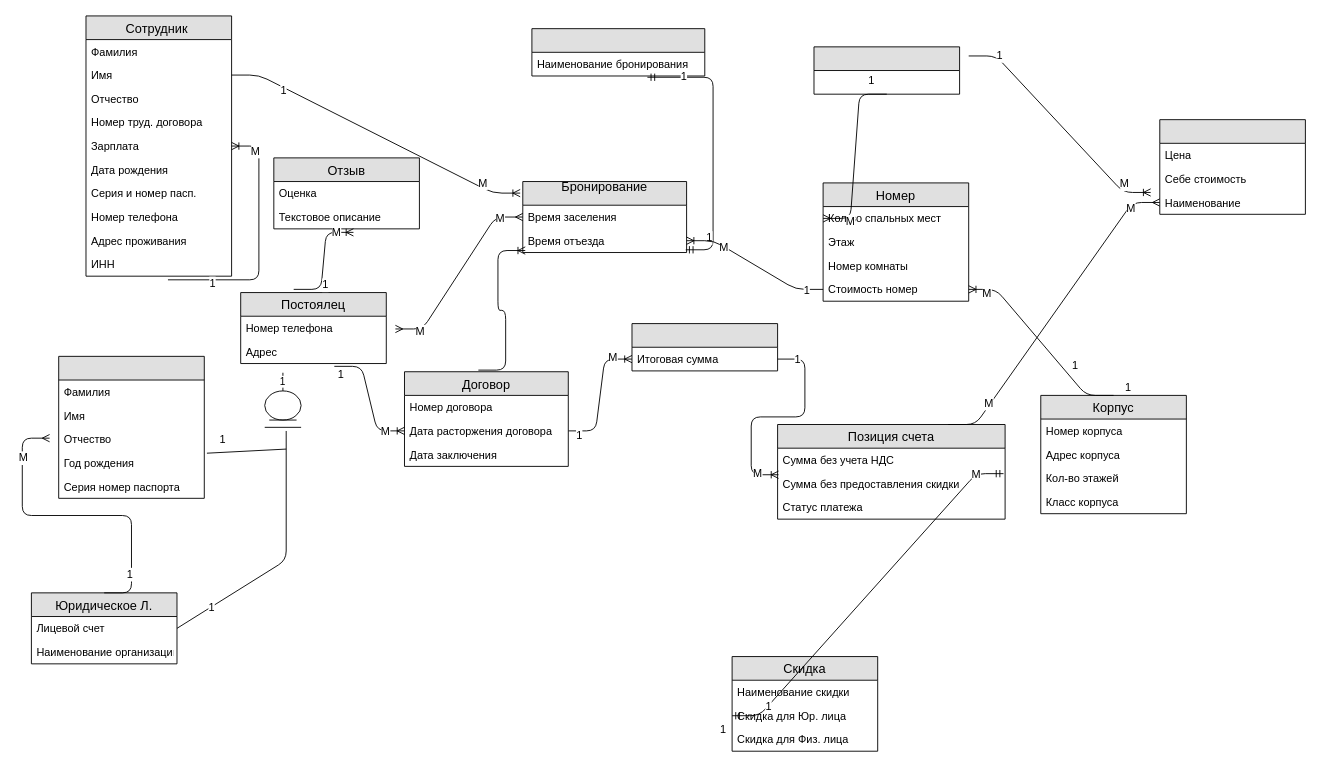
Some shapes in this 1321 by 770 pixel diagram are drawn without their labels. The box of each missing label's shape, as (x1, y1, x2, y2) in pixels:
Служба: (813, 46, 960, 94)
Статус бронирования: (531, 28, 705, 76)
Счет: (631, 323, 778, 371)
Услуга: (1159, 119, 1305, 214)
Физическое Л.: (58, 355, 204, 498)
